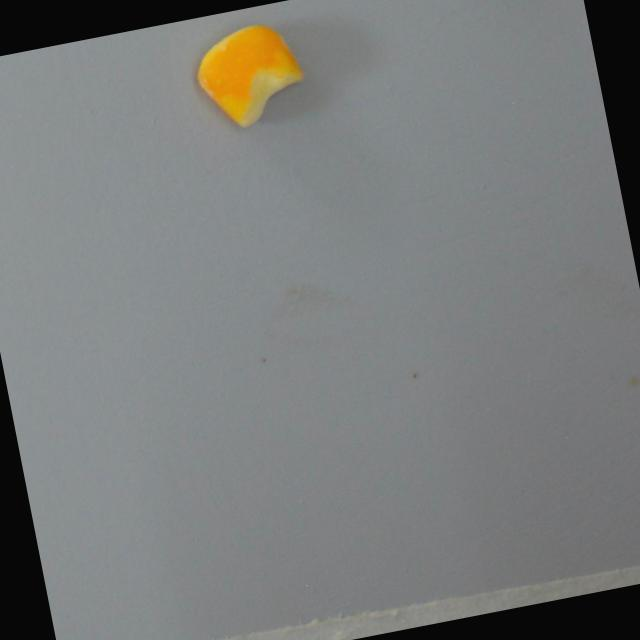dañado: (184, 12, 317, 138)
